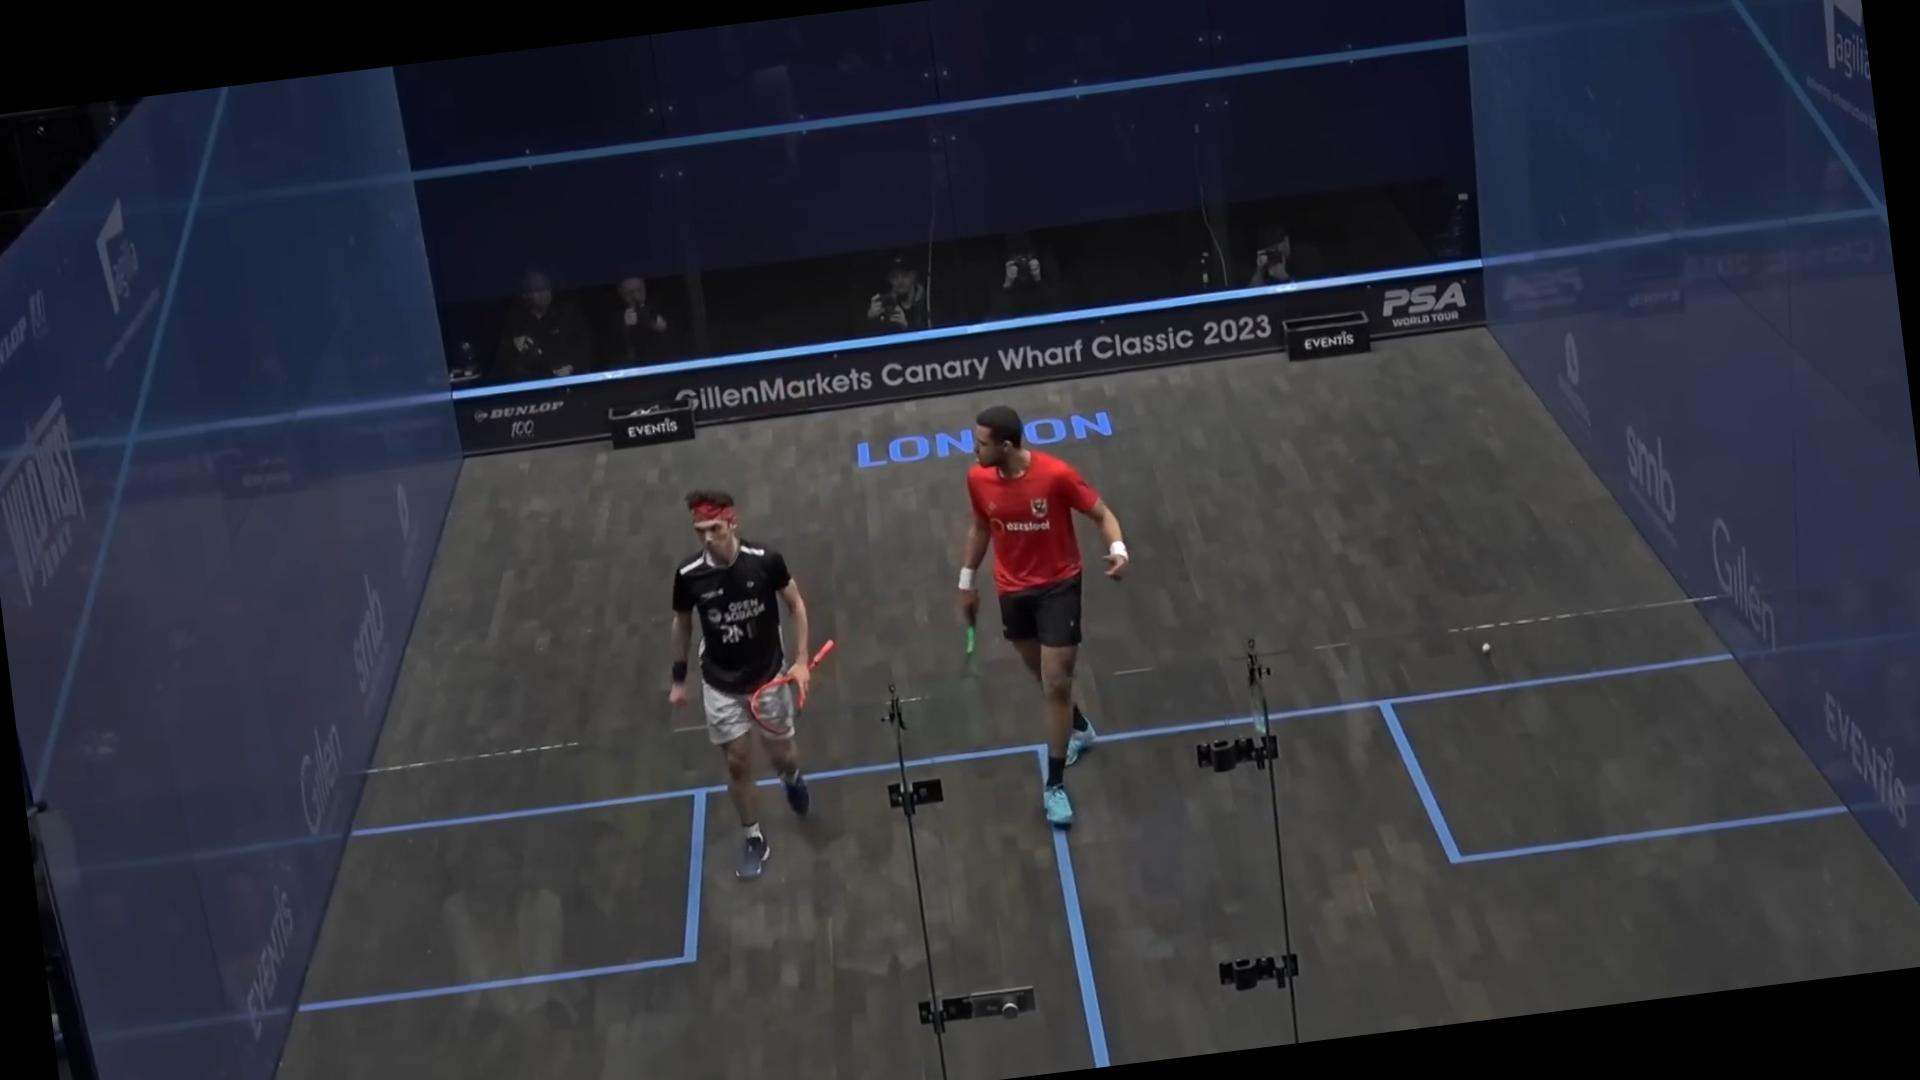Racket: (742, 632, 853, 744)
